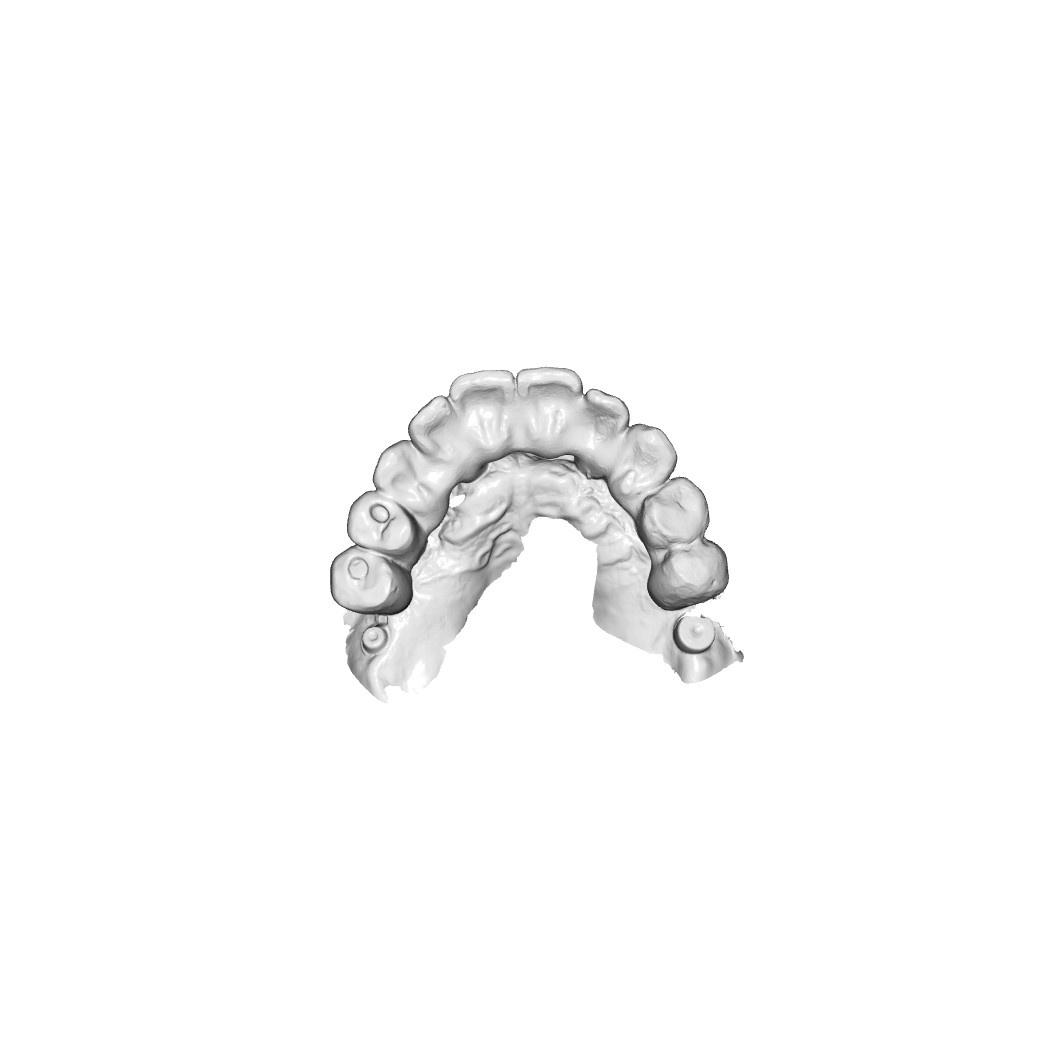canine: (608, 423, 679, 509), (373, 439, 441, 513)
implant: (682, 613, 714, 651), (353, 626, 389, 656)
incisor: (515, 367, 583, 459), (447, 368, 517, 450), (408, 396, 472, 469), (583, 386, 623, 469)
premolar: (330, 547, 402, 611), (658, 539, 730, 602), (350, 487, 409, 551), (650, 482, 707, 534)
